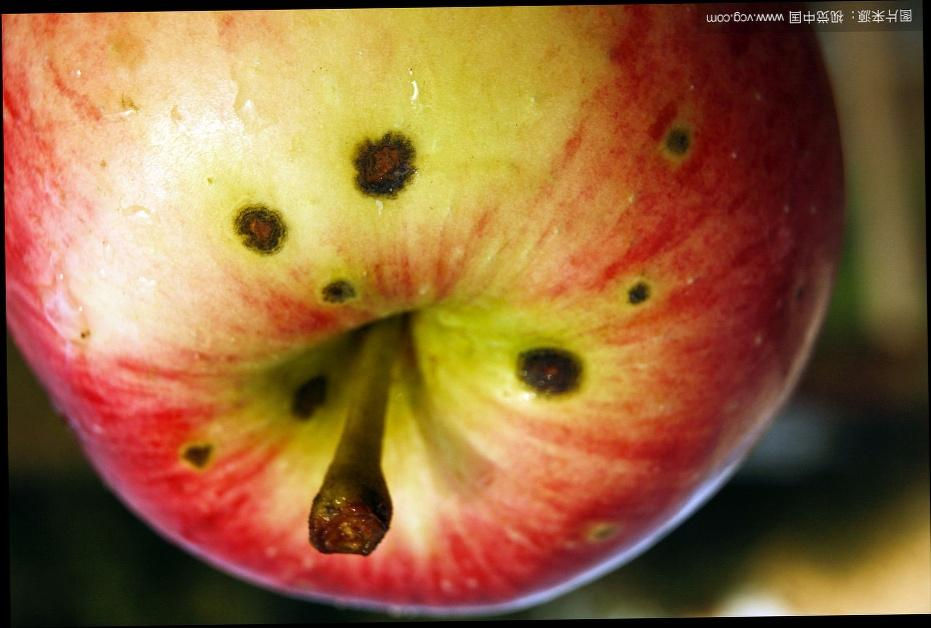rotten apple: (5, 6, 847, 620)
